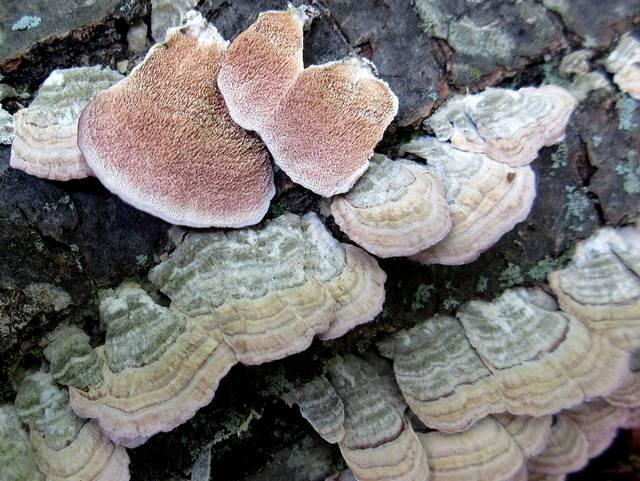Non-edible Mushroom: (0, 57, 640, 481), (75, 15, 277, 229), (215, 4, 400, 199)
